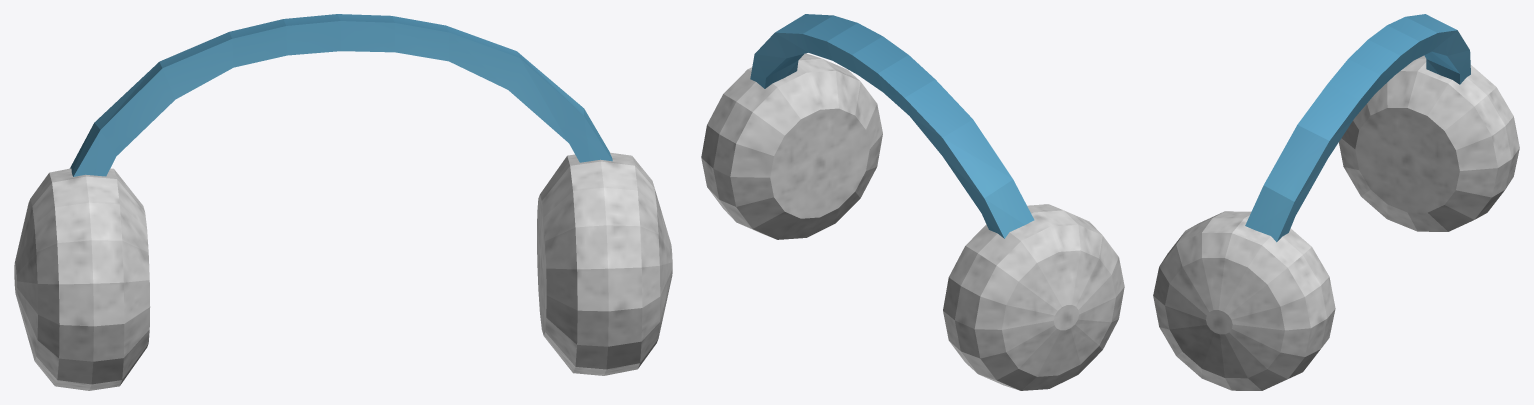
The model's file is WHITE EARMUFFS.fbx.
3 renders of one model, left to right at view 1: azimuth 30°, elevation 25°; view 2: azimuth 150°, elevation 25°; view 3: azimuth 270°, elevation 25°, orthographic. The views are drawn at different scales.
Parts seen in each view (by area): view 1: WHITE_EARMUFFS; view 2: WHITE_EARMUFFS; view 3: WHITE_EARMUFFS.
Part boxes in pixels (x1=…): WHITE_EARMUFFS: x1=14, y1=14, x2=672, y2=390; WHITE_EARMUFFS: x1=701, y1=14, x2=1124, y2=390; WHITE_EARMUFFS: x1=1153, y1=14, x2=1519, y2=390.
Size of the model in its own units: 33.58 by 19.55 by 23.92.
